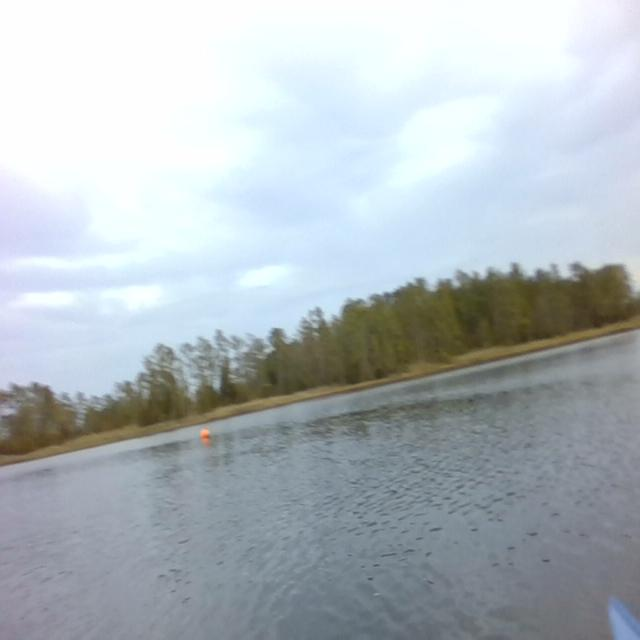Buoy: (198, 423, 212, 442)
